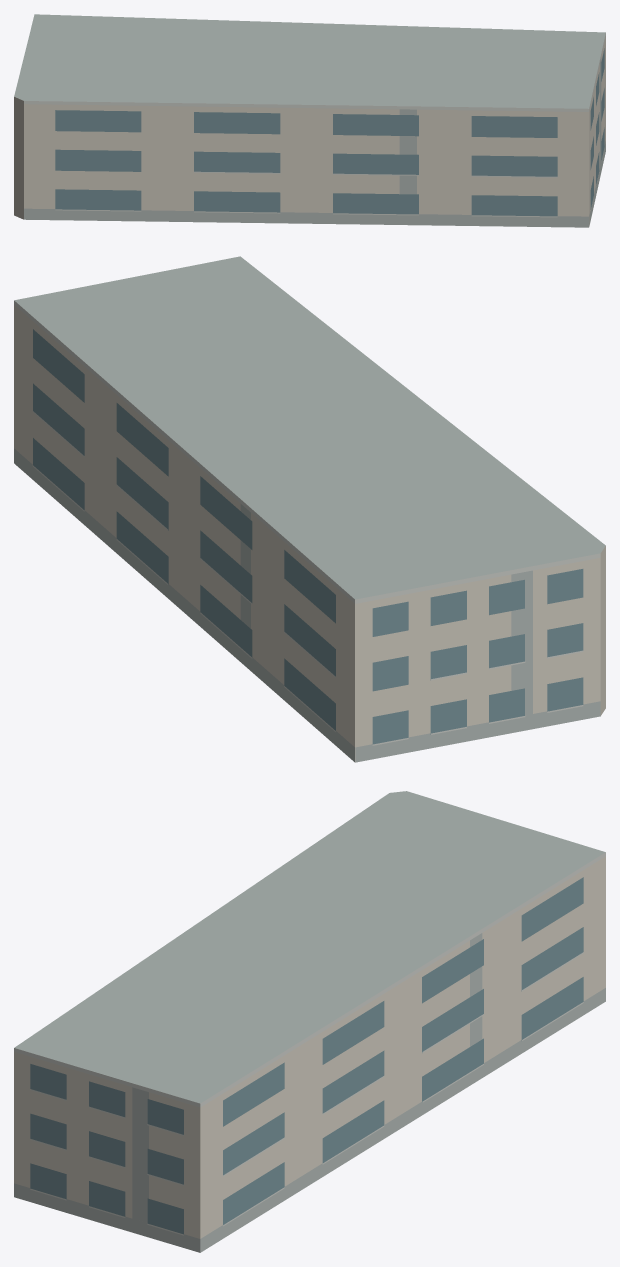
The model's file is survey-upis-32788588.glb.
3 renders of one model, top to bottom at view 1: azimuth 30°, elevation 25°; view 2: azimuth 150°, elevation 25°; view 3: azimuth 270°, elevation 25°, orthographic. The views are drawn at different scales.
Visible parts, largest first — view 1: survey-upis-32788588.tmp; view 2: survey-upis-32788588.tmp; view 3: survey-upis-32788588.tmp.
Boxes of the visible parts, bbox=[...] form: survey-upis-32788588.tmp: bbox=[14, 14, 605, 227]; survey-upis-32788588.tmp: bbox=[14, 256, 605, 762]; survey-upis-32788588.tmp: bbox=[14, 791, 605, 1252].
Size of the model in its own units: 41.09 by 9.15 by 32.88.
